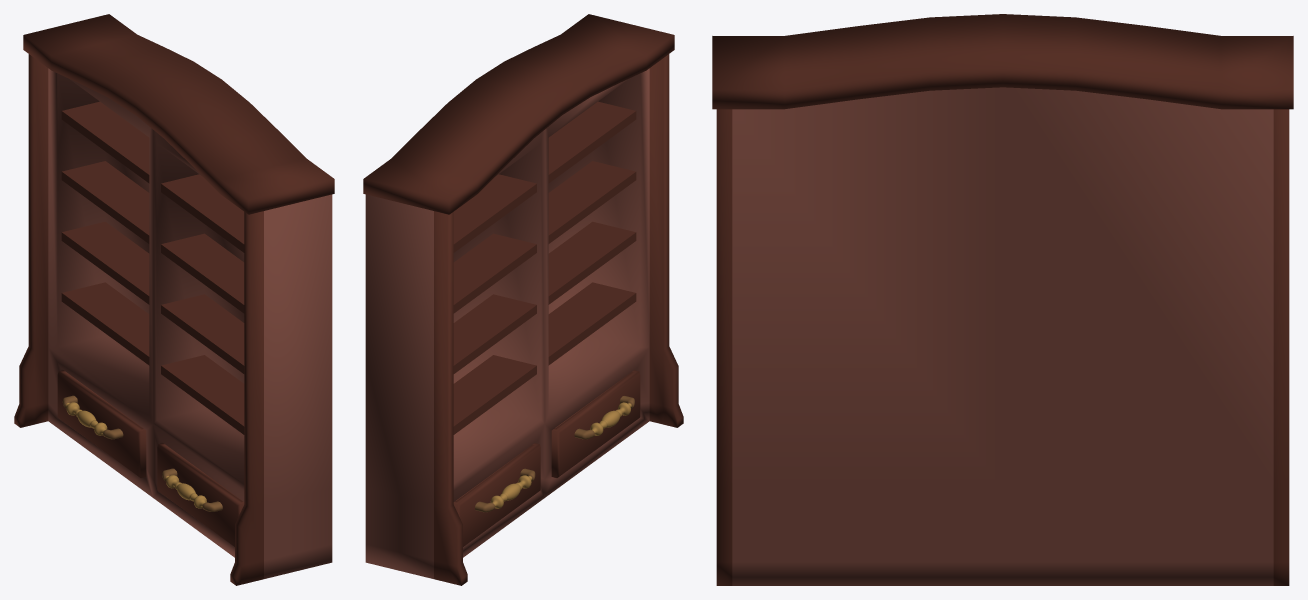
File: BookShelf.fbx
The picture shows the model from 3 angles, left to right: view 1: azimuth 30°, elevation 25°; view 2: azimuth 150°, elevation 25°; view 3: azimuth 270°, elevation 25°; orthographic projection. The views are drawn at different scales.
Visible parts, largest first — view 1: Bookshelf_Body, Bookshelf_Drawer_01, Bookshelf_Drawer_02; view 2: Bookshelf_Body, Bookshelf_Drawer_02, Bookshelf_Drawer_01; view 3: Bookshelf_Body.
Part boxes in pixels (x1=…): Bookshelf_Body: x1=14, y1=14, x2=334, y2=585; Bookshelf_Drawer_01: x1=57, y1=370, x2=146, y2=477; Bookshelf_Drawer_02: x1=157, y1=443, x2=244, y2=546; Bookshelf_Body: x1=363, y1=14, x2=683, y2=585; Bookshelf_Drawer_02: x1=551, y1=370, x2=640, y2=477; Bookshelf_Drawer_01: x1=453, y1=443, x2=540, y2=546; Bookshelf_Body: x1=712, y1=14, x2=1293, y2=585.
Bounding box in the file's own units: 1175 × 4674 × 4752.
